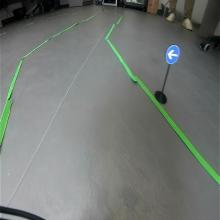left: (165, 44, 180, 64)
